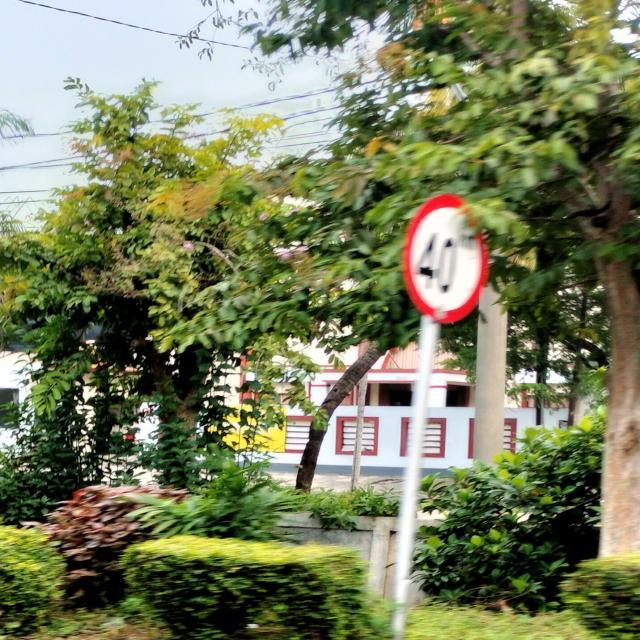Kecepatan Maks. 40 km: (404, 193, 488, 324)
